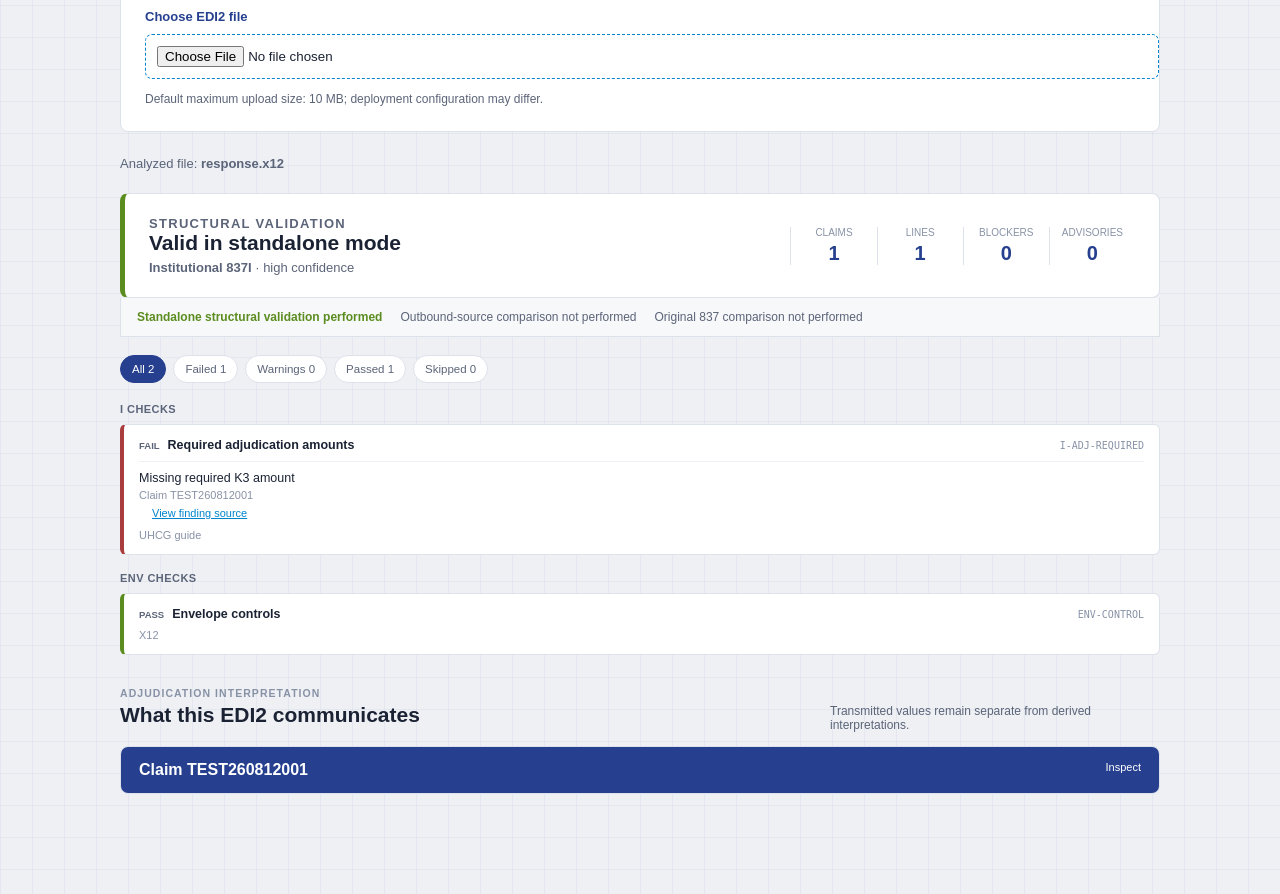
traceable validation presentation › opens the exact K3 source for a transmitted claim decision
The width and height of the screenshot is (1280, 894).
(page scrolled)
Click the button "Claim TEST260812001 Inspect".
click(163, 770)  # box [121, 747, 1159, 793]
(page scrolled)
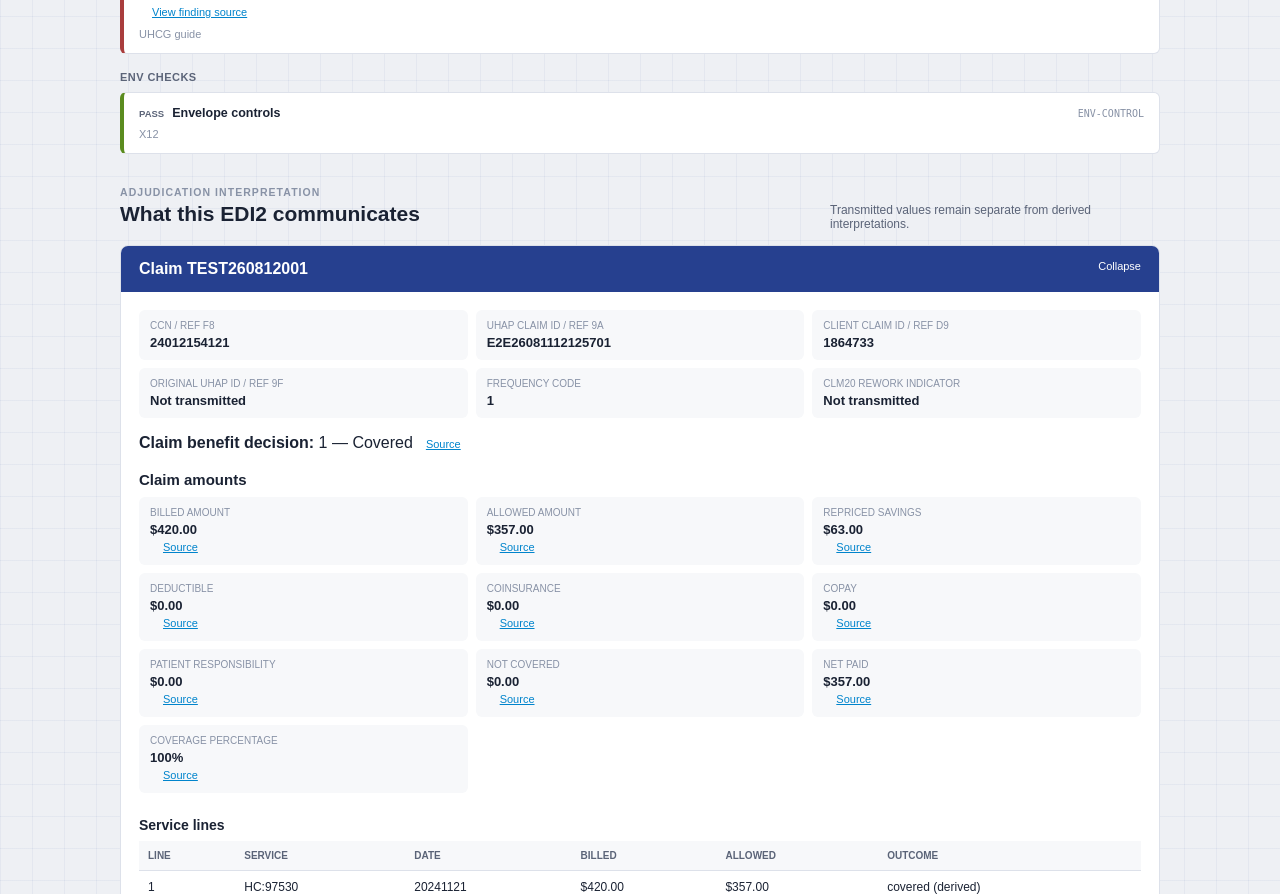
Click the button with aria-label "View source for claim benefit decision".
click(443, 444)  # box [421, 436, 466, 452]
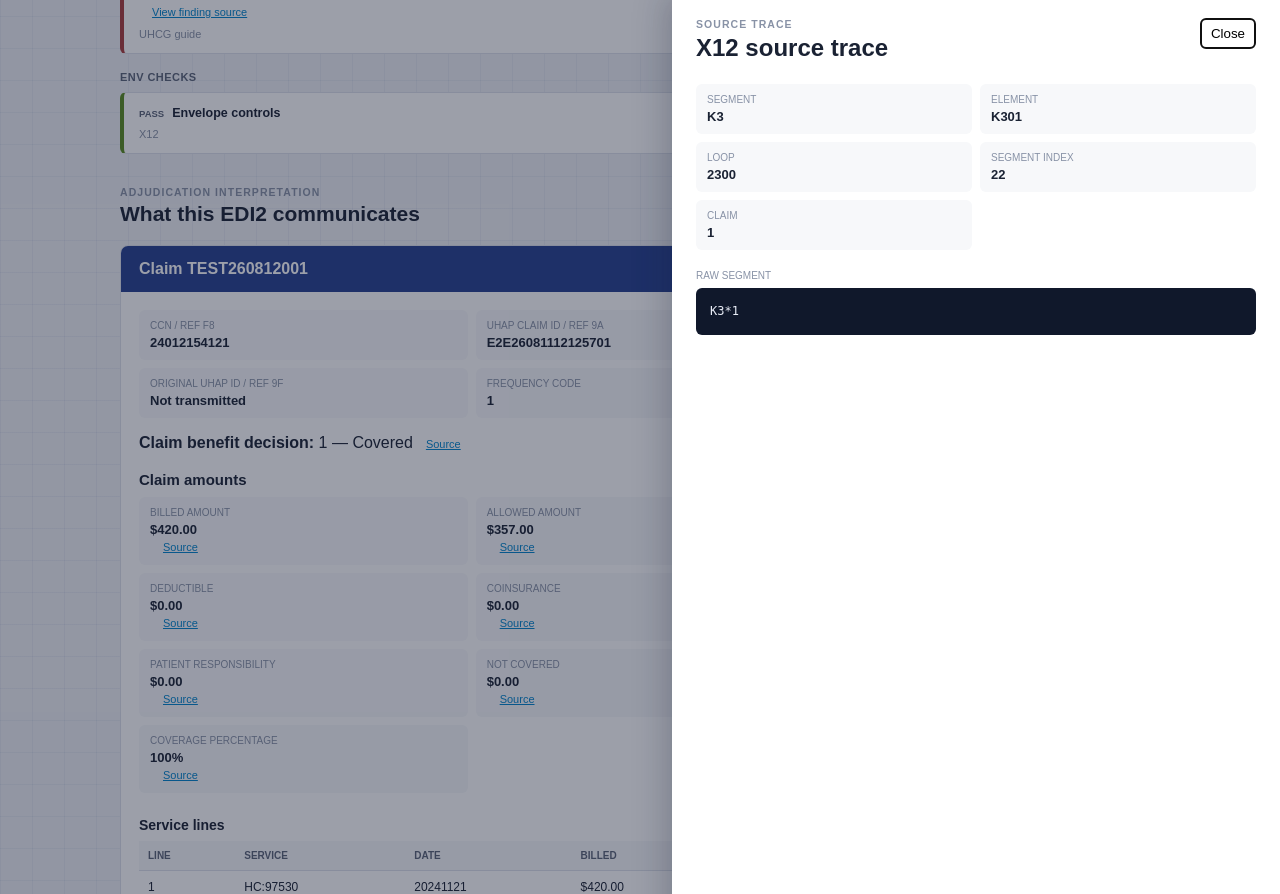
expect the text "K3*1" is shown: met, box [696, 288, 1256, 335]
